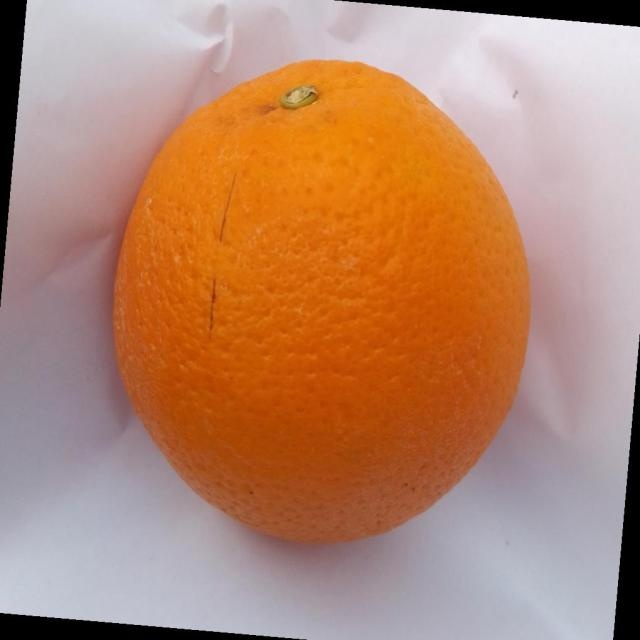agrume: (111, 58, 532, 545)
